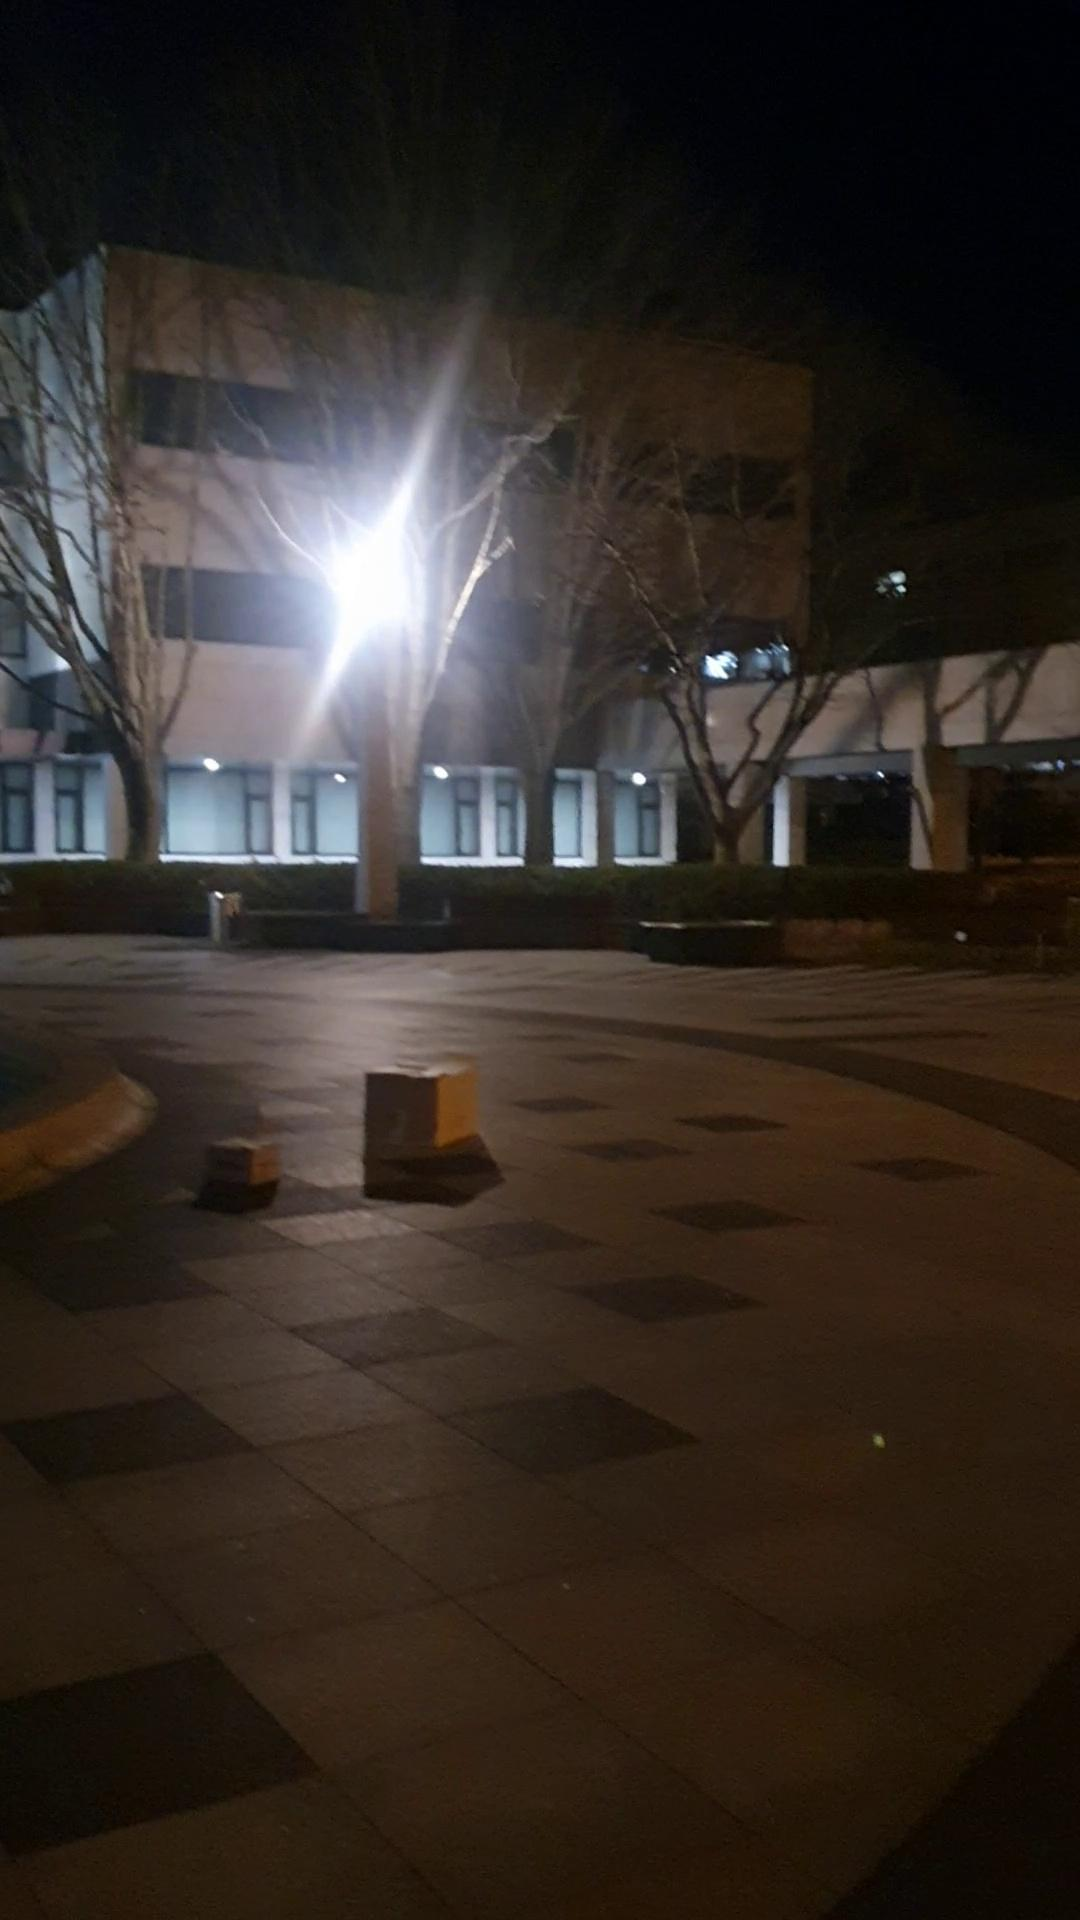Box: (351, 1040, 488, 1178), (200, 1125, 293, 1200)
